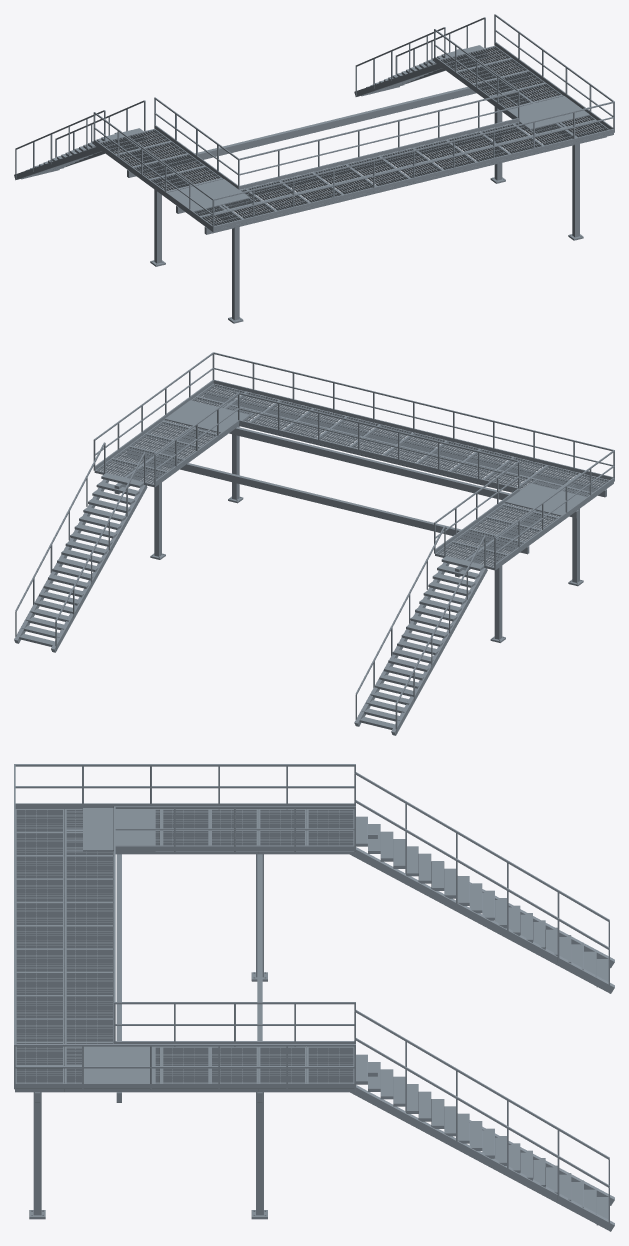
Rendered from CF_B2_Mezzanine.fbx.
3 views of the same model, one above another, from view 1: azimuth 30°, elevation 25°; view 2: azimuth 150°, elevation 25°; view 3: azimuth 270°, elevation 25° (orthographic). The views are drawn at different scales.
Parts seen in each view (by area): view 1: CF_B2_GratingAndSupport.001; view 2: CF_B2_GratingAndSupport.001; view 3: CF_B2_GratingAndSupport.001.
Boxes of the visible parts, box(x1,y1,x2,y2) form: CF_B2_GratingAndSupport.001: box(14, 14, 614, 323); CF_B2_GratingAndSupport.001: box(14, 352, 614, 735); CF_B2_GratingAndSupport.001: box(14, 764, 614, 1231).
Bounding box in the file's own units: 1464 × 473 × 1324.
